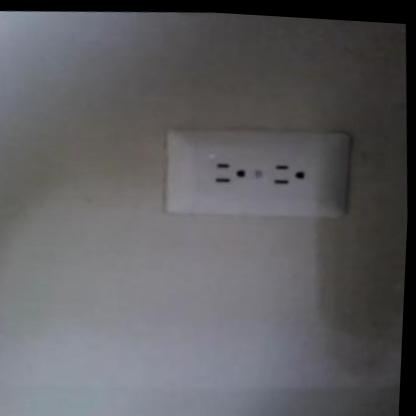OUTLET: (160, 119, 353, 228)
